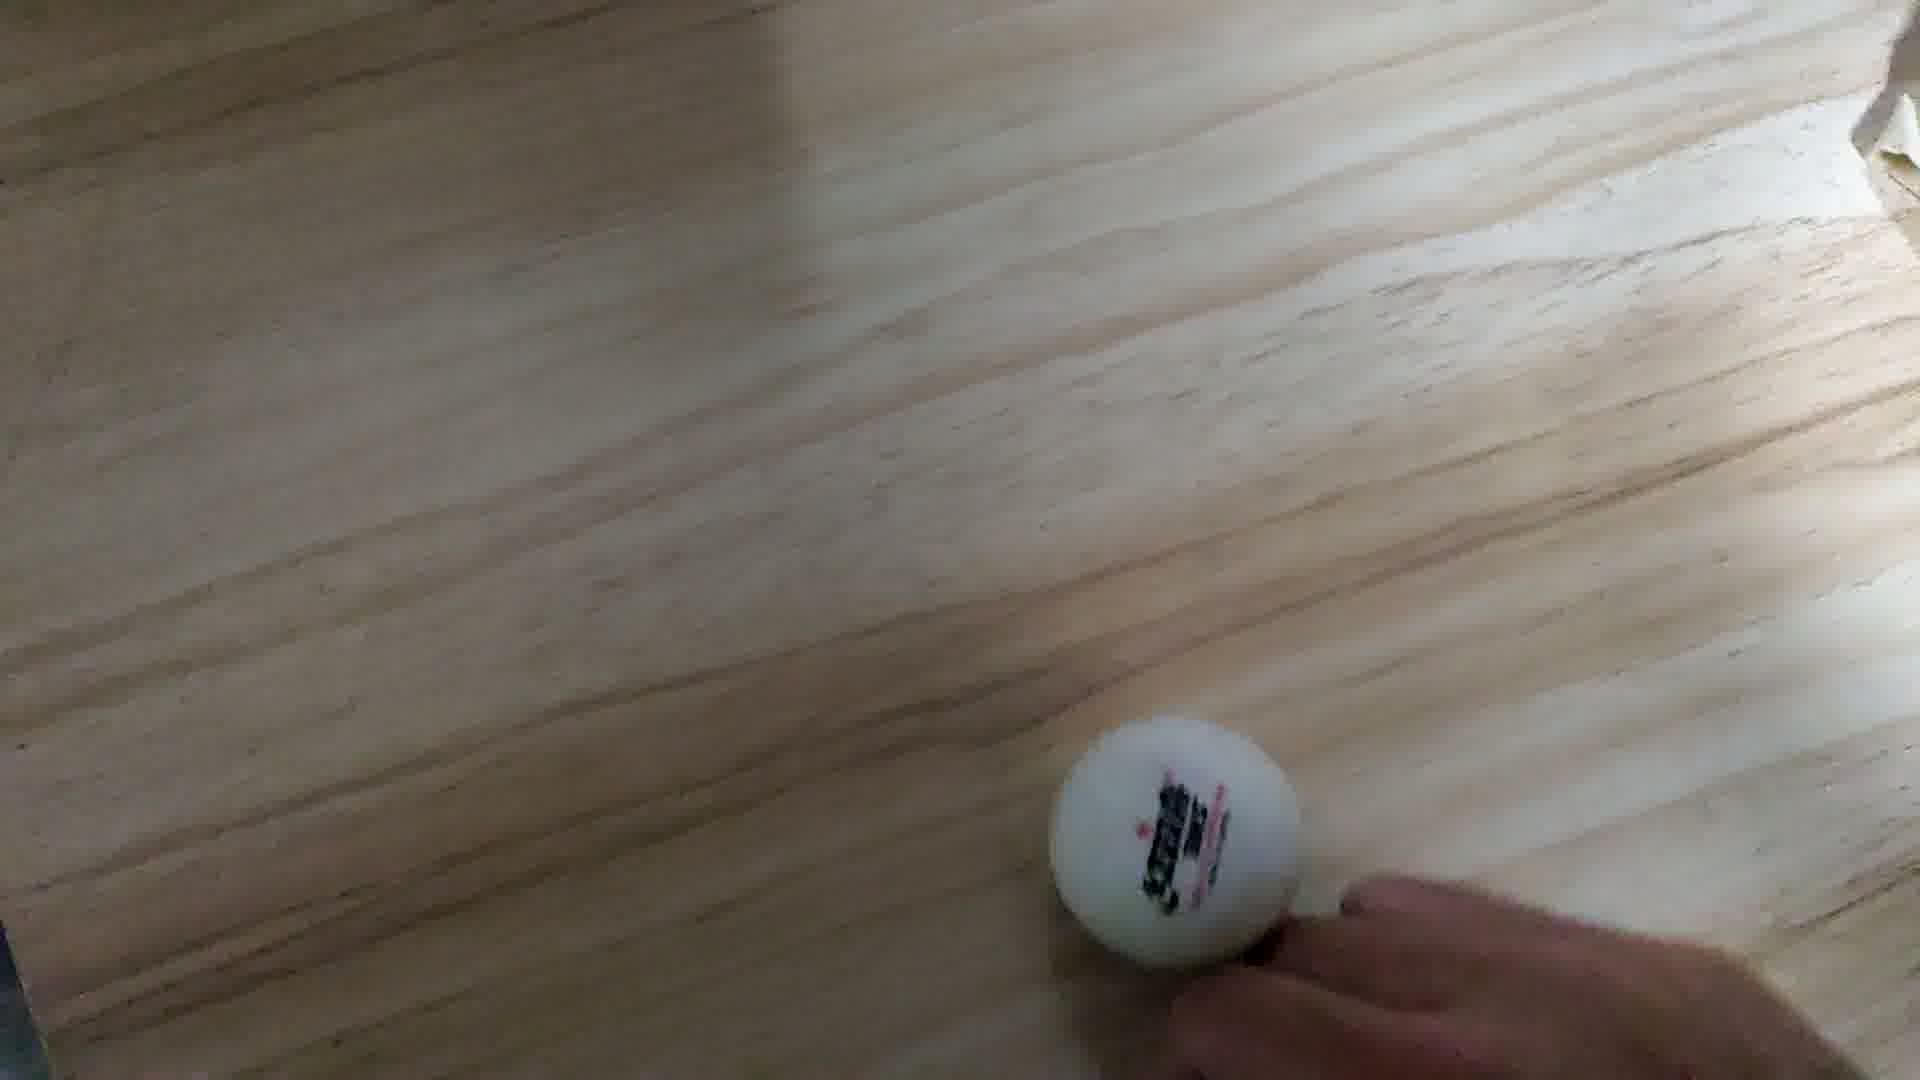Ball: (1048, 713, 1305, 969)
